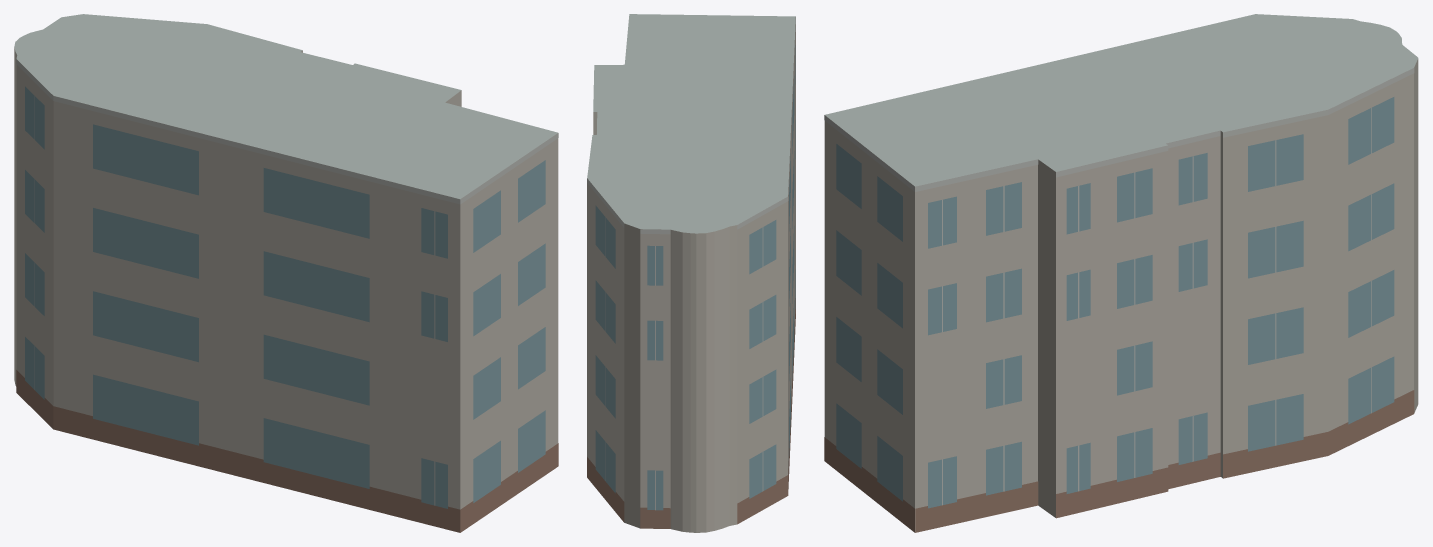
The model's file is survey-upis-32962748.glb.
The picture shows the model from 3 angles, left to right: view 1: azimuth 30°, elevation 25°; view 2: azimuth 150°, elevation 25°; view 3: azimuth 270°, elevation 25°; orthographic projection. The views are drawn at different scales.
Visible parts, largest first — view 1: survey-upis-32962748.tmp; view 2: survey-upis-32962748.tmp; view 3: survey-upis-32962748.tmp.
Boxes of the visible parts, bbox=[...] form: survey-upis-32962748.tmp: bbox=[14, 14, 558, 532]; survey-upis-32962748.tmp: bbox=[587, 14, 795, 532]; survey-upis-32962748.tmp: bbox=[824, 14, 1418, 532].
Bounding box in the file's own units: 16.59 × 15.5 × 24.11.
